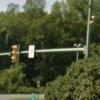Tree: (48, 53, 100, 100)
